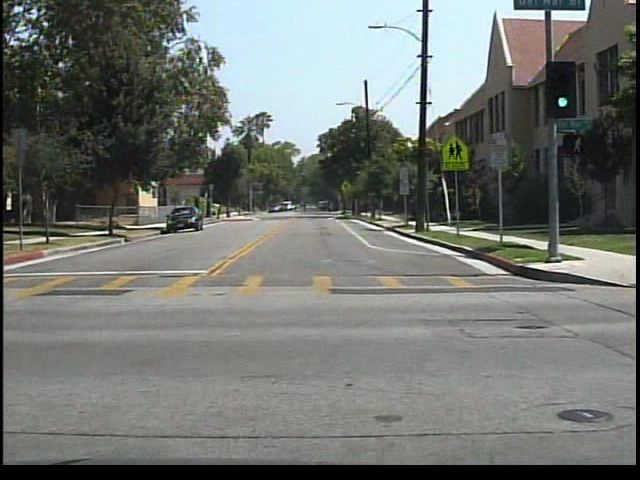person: (298, 197, 313, 215)
